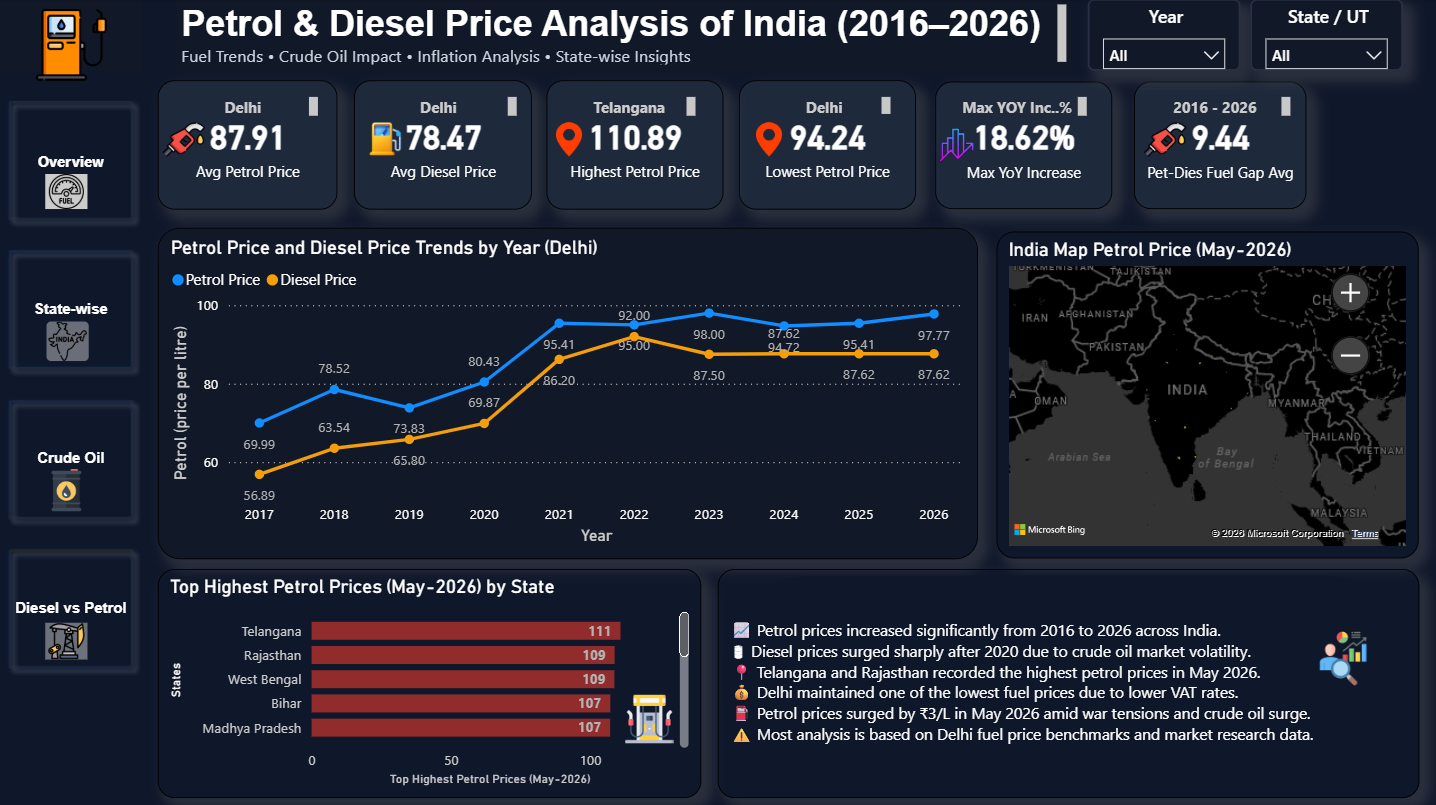

The page's visual inventory and layout, read from the dashboard file:
{"tool":"powerbi","page":{"name":"Overview","canvas":[1280,720],"ordinal":0},"visuals":[{"type":"shape","box":[0,0,127.9,64],"z":0},{"type":"textbox","box":[157.3,0,798.5,63.6],"z":1000},{"type":"pageNavigator","box":[0,82.5,128.8,523.8],"z":2000},{"type":"image","box":[0,8.8,128.8,63.8],"z":3000},{"type":"card","fields":{"Values":["1  Yearly Trends.Avg Petrol Price"]},"box":[141.2,72.5,160,115],"z":4000},{"type":"card","fields":{"Values":["1  Yearly Trends.Max YoY Increase"]},"box":[833.8,73.8,157.5,113.8],"z":5000},{"type":"card","fields":{"Values":["1  Yearly Trends.Lowest Petrol Price"]},"box":[658.8,72.5,157.5,115],"z":6000},{"type":"card","fields":{"Values":["1  Yearly Trends.Avg Diesel Price"]},"box":[316.2,72.5,158.8,115],"z":7000},{"type":"card","fields":{"Values":["1  Yearly Trends.Highest Petrol Price"]},"box":[487.5,72.5,157.5,115],"z":8000},{"type":"card","fields":{"Values":["1  Yearly Trends.Fuel Gap Avg"]},"box":[1011.2,73.8,153.8,113.8],"z":9000},{"type":"lineChart","title":"Petrol Price and Diesel Price Trends by Year (Delhi)","fields":{"Category":["1  Yearly Trends.Year"],"Y":["Sum(1  Yearly Trends.Petrol Price)","Sum(1  Yearly Trends.Diesel Price )"]},"box":[141.2,203.8,730,295],"z":10000},{"type":"filledMap","title":"India Map Petrol Price (May-2026)","fields":{"Category":["3  State-wise Prices.City","3  State-wise Prices.State"]},"box":[888.8,207.5,376.2,291.2],"z":11000},{"type":"clusteredBarChart","fields":{"Category":["3  State-wise Prices.State"],"Y":["Avg(3  State-wise Prices.Petrol May-2026)"]},"box":[141.2,507.5,483.8,203.8],"z":12000},{"type":"image","box":[323.8,101.2,36.2,46.2],"z":13000},{"type":"image","box":[670,108.8,31.2,31.2],"z":14000},{"type":"image","box":[41.2,418.8,37.5,37.5],"z":15000},{"type":"image","box":[42.5,287.5,37.5,35],"z":16000},{"type":"image","box":[41.2,555,37.5,32.5],"z":17000},{"type":"image","box":[492.5,108.8,31.2,31.2],"z":18000},{"type":"image","box":[41.2,156.2,37.5,31.2],"z":19000},{"type":"image","box":[146.2,102.5,37.5,45],"z":20000},{"type":"image","box":[1020,102.5,37.5,45],"z":21000},{"type":"image","box":[557.1,610,43.2,62.4],"z":22000},{"type":"shape","title":"Key Insights","box":[640,507.5,625,203.8],"z":23000},{"type":"textbox","box":[646.2,547.5,600,125],"z":24000},{"type":"image","box":[1165.5,562.2,63.5,50.1],"z":25000},{"type":"image","box":[833.8,115,37.5,31.2],"z":26000},{"type":"textbox","box":[153.8,82.5,135,26.2],"z":27000},{"type":"textbox","box":[325,82.5,141.2,26.2],"z":28000},{"type":"textbox","box":[1020,82.5,135,26.2],"z":29000},{"type":"textbox","box":[852.5,82.5,121.2,26.2],"z":30000},{"type":"textbox","box":[503.8,82.5,121.2,26.2],"z":31000},{"type":"textbox","box":[677.5,82.5,121.2,25],"z":32000},{"type":"slicer","title":"Year","fields":{"Values":["1  Yearly Trends.Year"]},"box":[970,0,136.2,63.8],"z":33000},{"type":"slicer","title":"State / UT","fields":{"Values":["3  State-wise Prices.State"]},"box":[1113.8,0,136.2,63.8],"z":34000}]}

Visuals, with their boxes in screenshot pixels (x1, y1, x2, y2), scaled from the page's 1280x720 canvas onto the 1436x805 screenshot:
shape: [left=0, top=0, right=143, bottom=72]
textbox: [left=176, top=0, right=1072, bottom=71]
pageNavigator: [left=0, top=92, right=144, bottom=678]
image: [left=0, top=10, right=144, bottom=81]
card - 1  Yearly Trends.Avg Petrol Price: [left=158, top=81, right=338, bottom=210]
card - 1  Yearly Trends.Max YoY Increase: [left=935, top=83, right=1112, bottom=210]
card - 1  Yearly Trends.Lowest Petrol Price: [left=739, top=81, right=916, bottom=210]
card - 1  Yearly Trends.Avg Diesel Price: [left=355, top=81, right=533, bottom=210]
card - 1  Yearly Trends.Highest Petrol Price: [left=547, top=81, right=724, bottom=210]
card - 1  Yearly Trends.Fuel Gap Avg: [left=1134, top=83, right=1307, bottom=210]
"Petrol Price and Diesel Price Trends by Year (Delhi)" lineChart: [left=158, top=228, right=977, bottom=558]
"India Map Petrol Price (May-2026)" filledMap: [left=997, top=232, right=1419, bottom=558]
clusteredBarChart - 3  State-wise Prices.State x Avg(3  State-wise Prices.Petrol May-2026): [left=158, top=567, right=701, bottom=795]
image: [left=363, top=113, right=404, bottom=165]
image: [left=752, top=122, right=787, bottom=157]
image: [left=46, top=468, right=88, bottom=510]
image: [left=48, top=321, right=90, bottom=361]
image: [left=46, top=621, right=88, bottom=657]
image: [left=553, top=122, right=588, bottom=157]
image: [left=46, top=175, right=88, bottom=210]
image: [left=164, top=115, right=206, bottom=165]
image: [left=1144, top=115, right=1186, bottom=165]
image: [left=625, top=682, right=673, bottom=752]
"Key Insights" shape: [left=718, top=567, right=1419, bottom=795]
textbox: [left=725, top=612, right=1398, bottom=752]
image: [left=1308, top=629, right=1379, bottom=685]
image: [left=935, top=129, right=977, bottom=163]
textbox: [left=173, top=92, right=324, bottom=122]
textbox: [left=365, top=92, right=523, bottom=122]
textbox: [left=1144, top=92, right=1296, bottom=122]
textbox: [left=956, top=92, right=1092, bottom=122]
textbox: [left=565, top=92, right=701, bottom=122]
textbox: [left=760, top=92, right=896, bottom=120]
"Year" slicer: [left=1088, top=0, right=1241, bottom=71]
"State / UT" slicer: [left=1250, top=0, right=1402, bottom=71]
